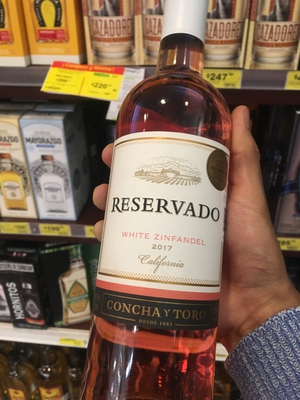reservado white zinfandel: (91, 13, 231, 400)
